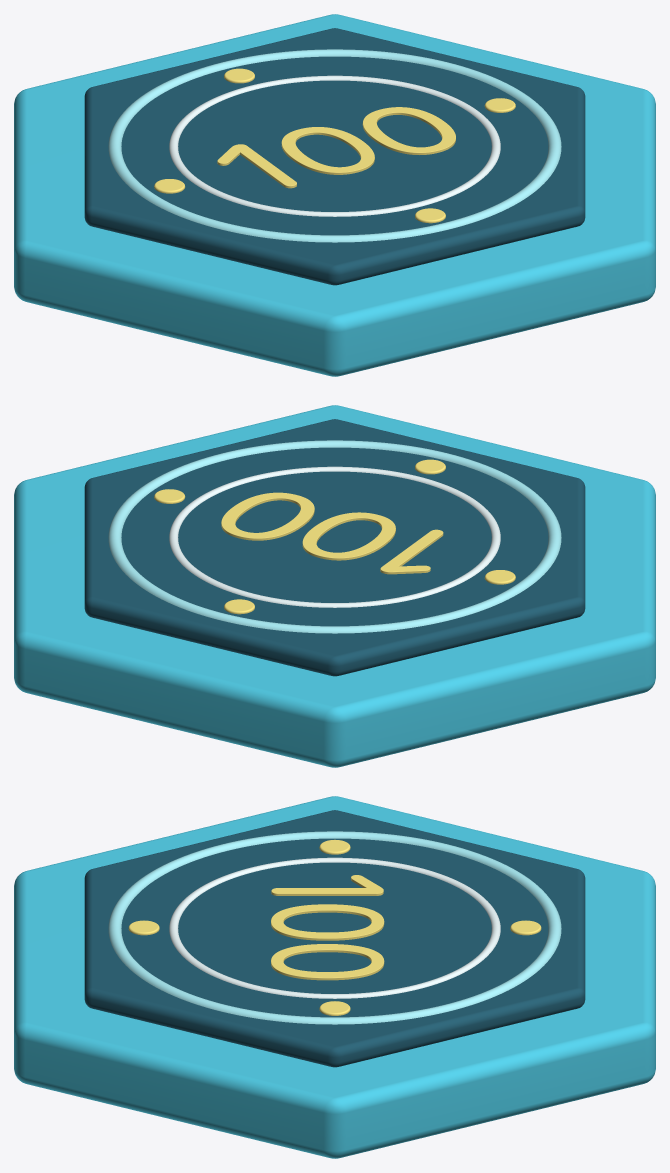
File: achievement_workout_100.glb
The picture shows the model from 3 angles, top to bottom: view 1: azimuth 30°, elevation 25°; view 2: azimuth 150°, elevation 25°; view 3: azimuth 270°, elevation 25°; orthographic projection.
Visible parts, largest first — view 1: colored hex milestone border, inset enamel hex face, inner milestone ring, imprinted 100 workout count, milestone highlight ring; view 2: colored hex milestone border, inset enamel hex face, inner milestone ring, imprinted 100 workout count, milestone highlight ring; view 3: colored hex milestone border, inset enamel hex face, inner milestone ring, imprinted 100 workout count, milestone highlight ring.
Boxes of the visible parts, box(x1,y1,x2,y2) form: colored hex milestone border: box(14, 14, 655, 376); inset enamel hex face: box(84, 28, 585, 285); inner milestone ring: box(108, 49, 561, 242); imprinted 100 workout count: box(217, 107, 455, 188); milestone highlight ring: box(169, 75, 500, 216); colored hex milestone border: box(14, 405, 655, 767); inset enamel hex face: box(84, 419, 585, 676); inner milestone ring: box(108, 440, 561, 633); imprinted 100 workout count: box(221, 492, 443, 574); milestone highlight ring: box(169, 466, 500, 607); colored hex milestone border: box(14, 796, 655, 1158); inset enamel hex face: box(84, 810, 585, 1067); inner milestone ring: box(108, 831, 561, 1024); imprinted 100 workout count: box(271, 875, 384, 980); milestone highlight ring: box(169, 857, 500, 998).
Bounding box in the file's own units: 1.98 × 0.246 × 1.73.
